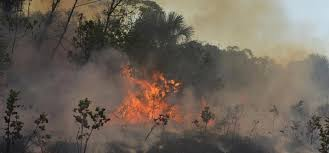fire: (113, 65, 188, 131)
smoke: (225, 10, 318, 132), (21, 57, 97, 136)
